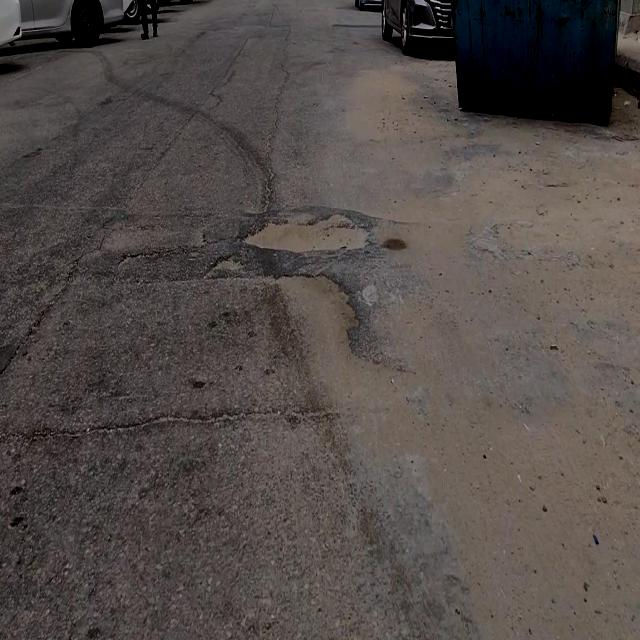Potholes: (243, 210, 371, 256)
